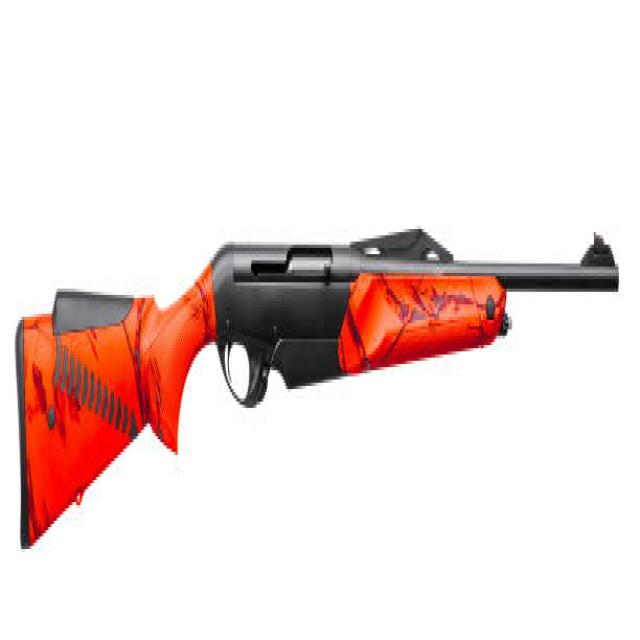rifle: (16, 215, 628, 563)
